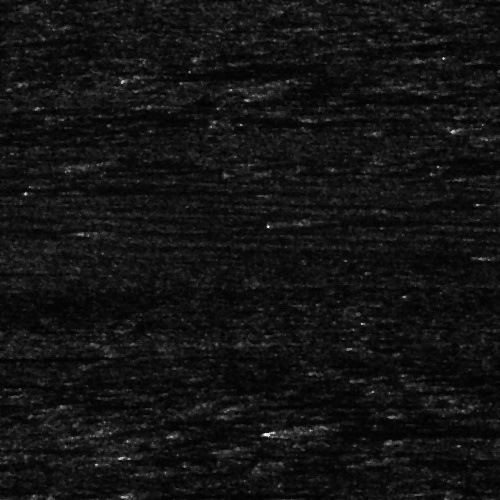object: (279, 214, 342, 225), (106, 69, 179, 78), (470, 195, 500, 206), (279, 114, 342, 119), (111, 489, 174, 494), (78, 227, 131, 232)
shadow: (0, 181, 246, 192), (143, 69, 396, 78), (310, 214, 482, 225), (0, 349, 94, 362), (311, 114, 484, 119), (143, 489, 313, 494), (0, 153, 118, 158), (104, 227, 186, 232), (0, 263, 35, 272)
